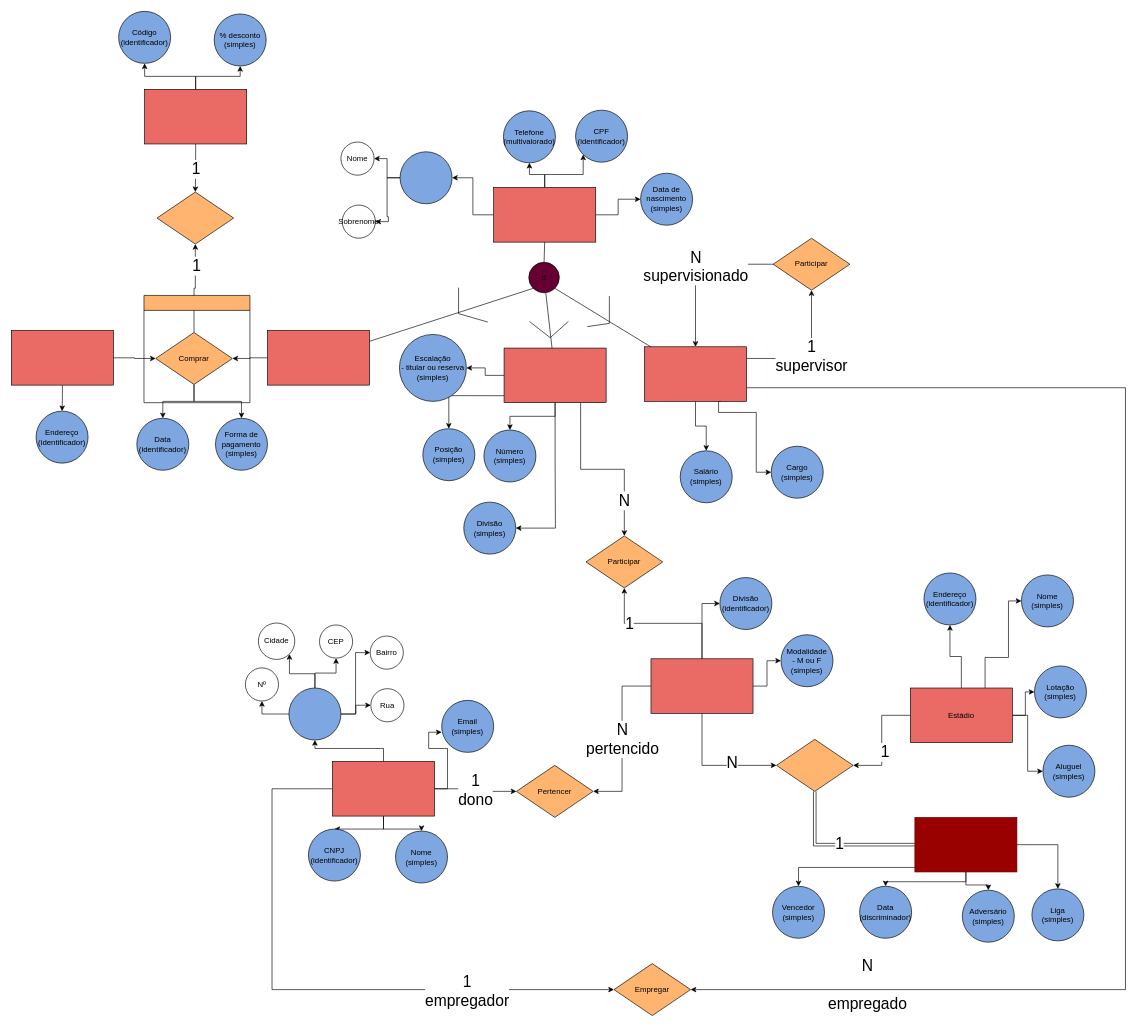
The diagram is 1142 pixels wide and 1028 high, and some of its shapes have lost their labels. Each missing label, with the centre of its shape:
Cliente: point (318, 357)
Cliente-Loja: point (196, 349)
Clube: point (383, 788)
Cupom: point (195, 116)
Descontar: point (195, 217)
Endereço (composto): point (314, 713)
Funcionário: point (695, 373)
Jogador: point (554, 375)
Jogar: point (814, 765)
Loja: point (62, 357)
Nome (composto): point (425, 177)
Partida (ENTIDADE FRACA): point (965, 844)
Pessoa: point (544, 214)
Time: point (701, 685)
